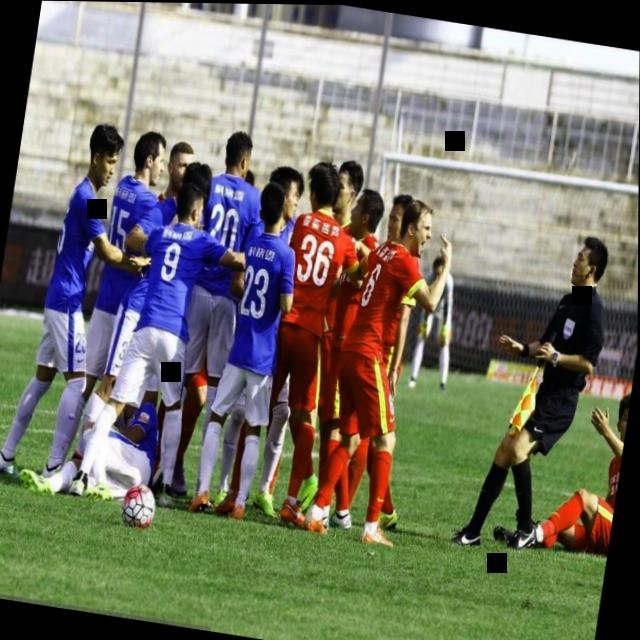Fall-Detected: (10, 352, 183, 521)
